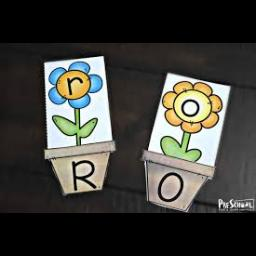o: (156, 170, 188, 210), (180, 96, 202, 124)
r: (66, 156, 102, 200)
